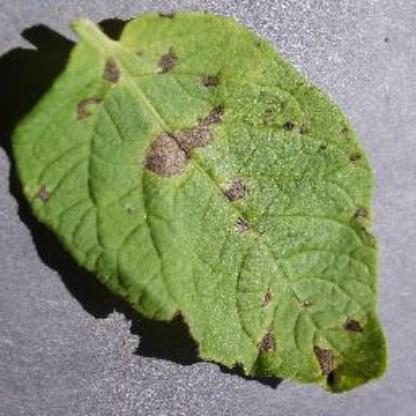Early-Blight: (7, 7, 394, 392)
